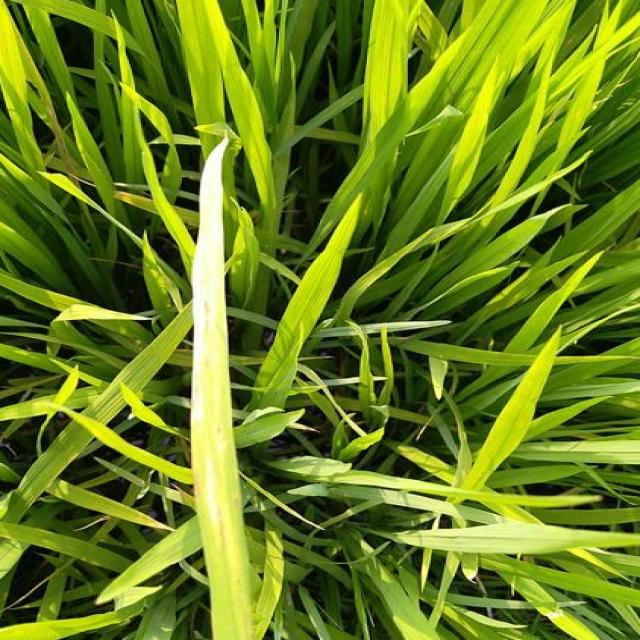Leaf Streak: (191, 141, 226, 432)
